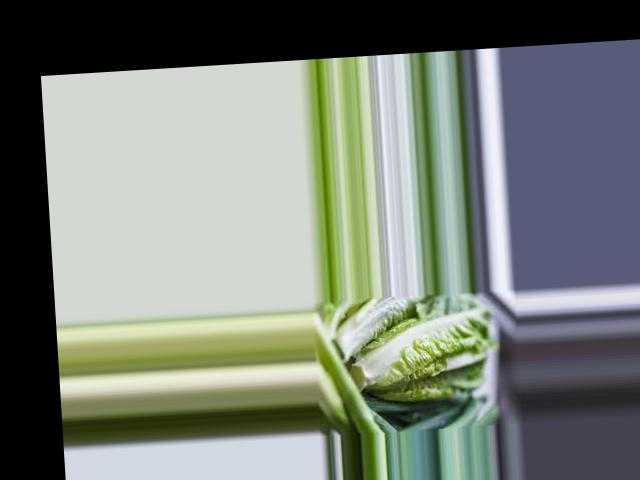lettuce: (352, 283, 514, 420)
